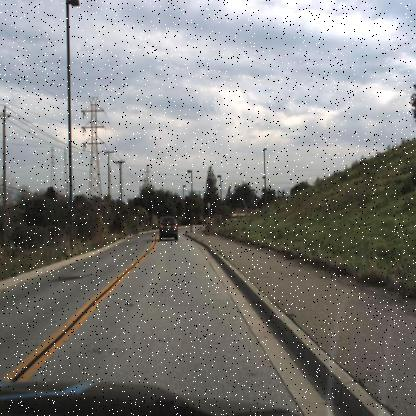car: (157, 216, 178, 241)
